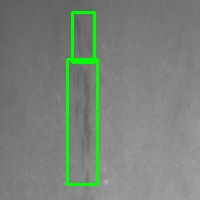inclusion: (67, 59, 97, 184), (72, 12, 94, 62)
